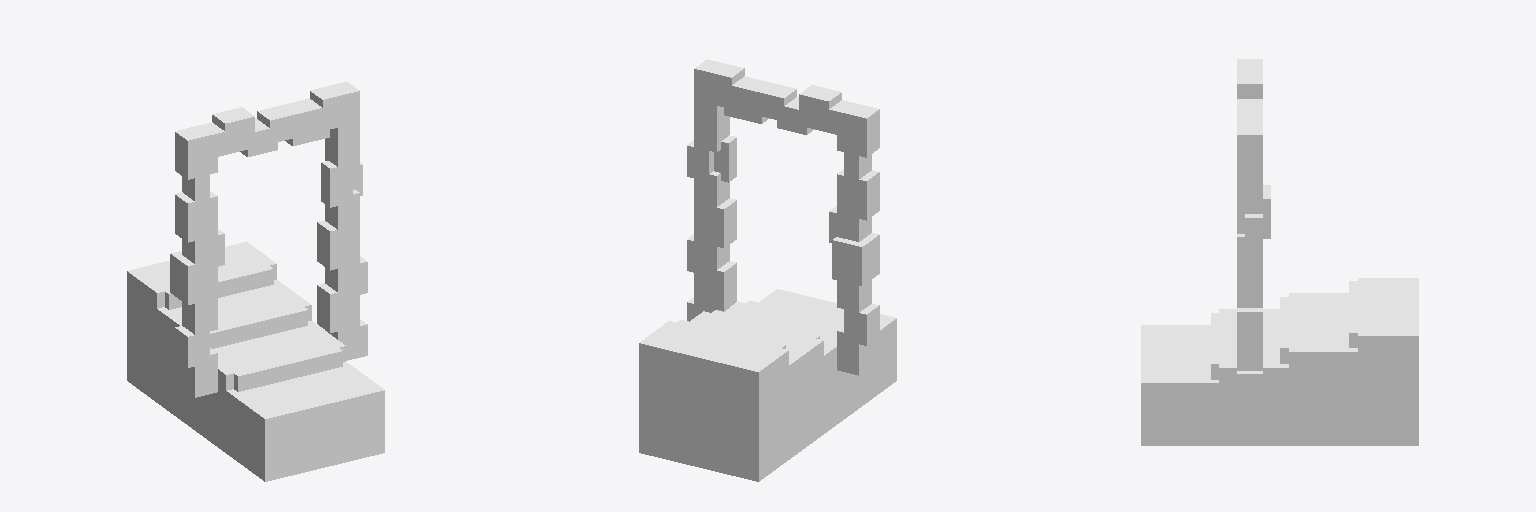
The model's file is dStairs.obj.
3 views of the same model, side by side, from view 1: azimuth 30°, elevation 25°; view 2: azimuth 150°, elevation 25°; view 3: azimuth 270°, elevation 25° (orthographic).
Visible parts, largest first — view 1: object 1; view 2: object 1; view 3: object 1.
Boxes of the visible parts, <box> form: object 1: <box>127,82,384,481</box>; object 1: <box>639,59,896,481</box>; object 1: <box>1141,59,1418,445</box>.
Bounding box in the file's own units: 2.4 × 4.1 × 3.2.